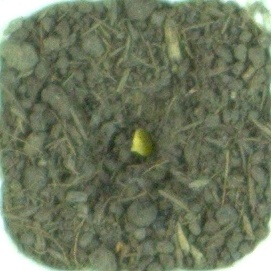pepper seed: (53, 48, 207, 206)
